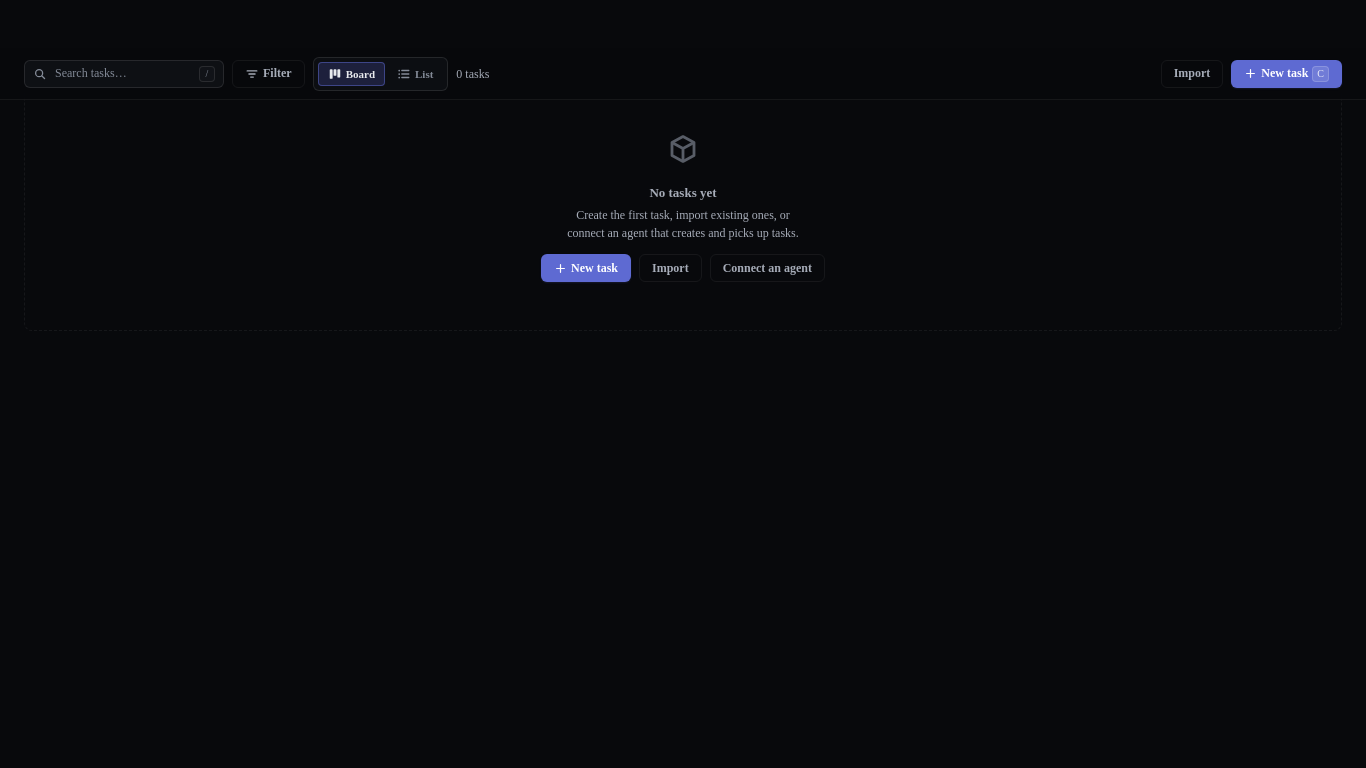
Test: board of a project with no tasks › opens the new-task dialog and the import dialog from the empty state
Check: the button "New task C" is enabled, box [1231,60,1342,88]
Step 1. Click the button "New task" → (586, 268), box [541,254,631,282]
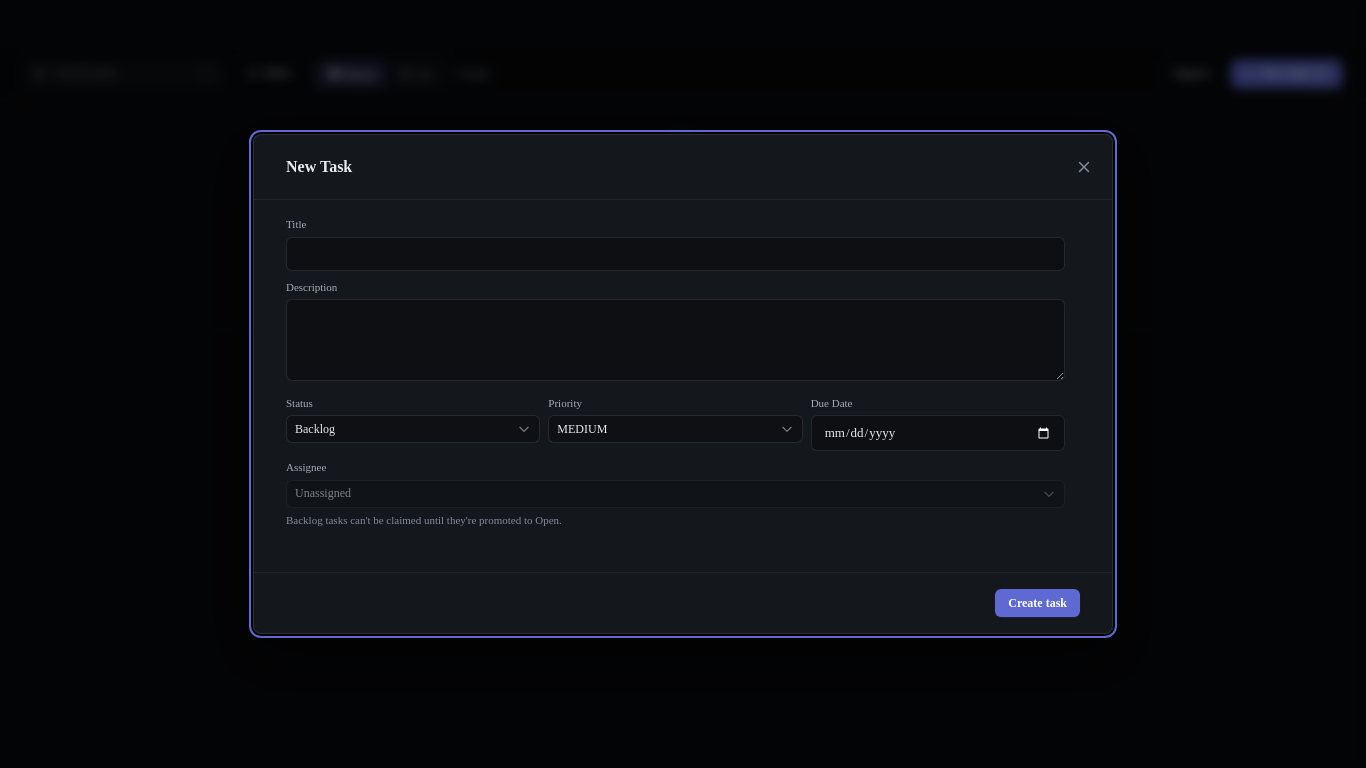
Check: the dialog is shown, box [253,134,1113,634]
